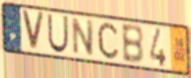4: (149, 27, 168, 69)
B: (120, 24, 145, 66)
C: (97, 21, 120, 61)
N: (72, 17, 95, 58)
U: (47, 13, 70, 55)
V: (20, 9, 46, 53)
